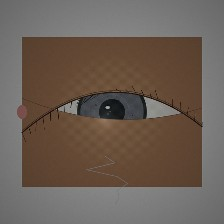foreign_body_visible: (148, 128, 171, 146)
